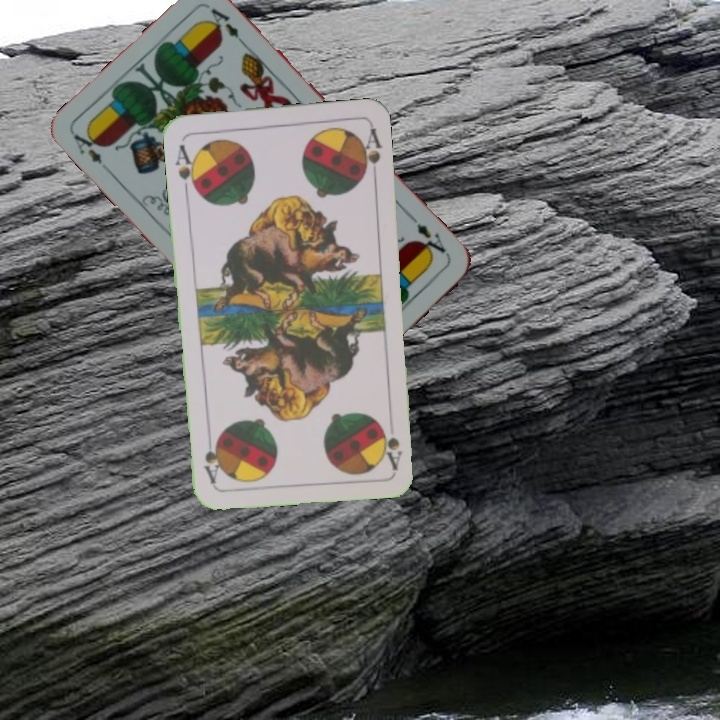EA: (69, 125, 114, 177), (406, 211, 449, 261)
SA: (171, 140, 201, 196), (378, 420, 405, 471)
